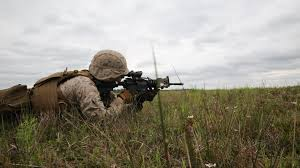gun: (94, 70, 184, 105)
